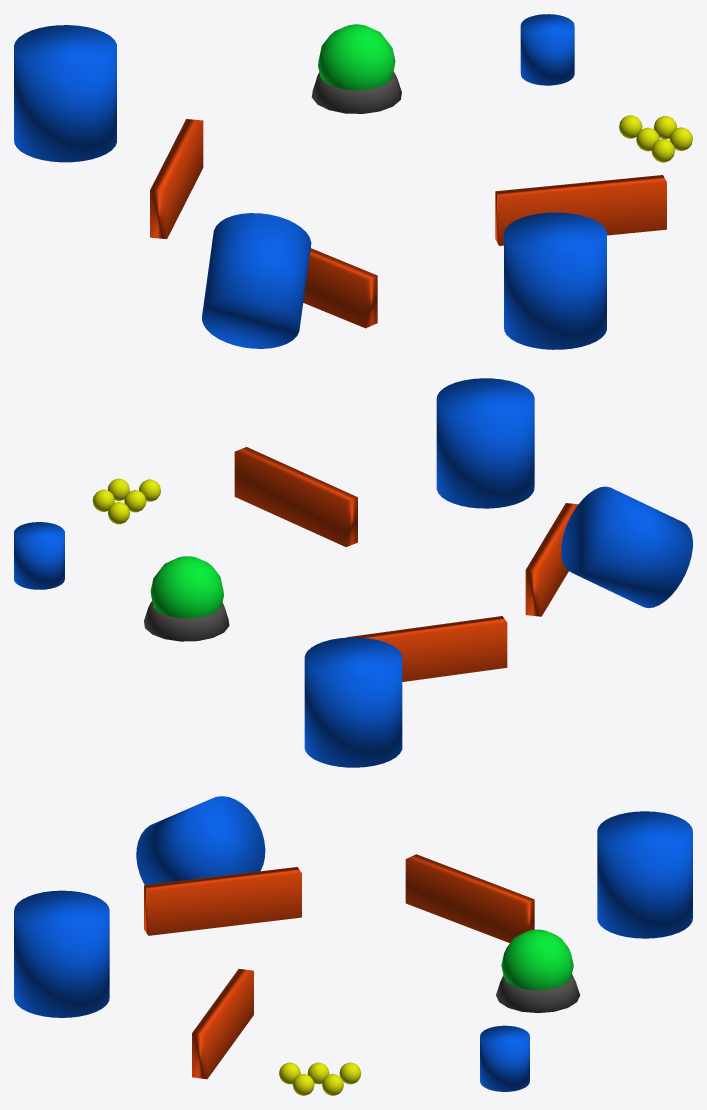
File: map.gltf
The picture shows the model from 3 angles, top to bottom: view 1: azimuth 30°, elevation 25°; view 2: azimuth 150°, elevation 25°; view 3: azimuth 270°, elevation 25°; orthographic projection. The views are drawn at different scales.
Visible parts, largest first — view 1: 円柱.004, 円柱.003, 円柱.001, 立方体, Gustank, 立方体.001, 立方体.002, 円柱, トーラス; view 2: 円柱.003, 円柱.004, 円柱.001, 立方体, 立方体.002, Gustank, 円柱, 立方体.001, トーラス; view 3: 円柱.003, 円柱.004, 円柱.001, 立方体.001, 立方体.002, 立方体, Gustank, 円柱, トーラス.
Boxes of the visible parts, x1,y1,x2,y2 form: 円柱.004: (504, 212, 606, 349); 円柱.003: (14, 25, 116, 162); 円柱.001: (202, 213, 311, 348); 立方体: (495, 175, 666, 245); Gustank: (318, 24, 395, 90); 立方体.001: (303, 248, 377, 328); 立方体.002: (150, 119, 203, 239); 円柱: (520, 14, 574, 85); トーラス: (311, 72, 401, 113); 円柱.003: (304, 637, 402, 767); 円柱.004: (436, 378, 534, 508); 円柱.001: (561, 486, 692, 608); 立方体: (234, 447, 357, 546); 立方体.002: (347, 616, 507, 681); Gustank: (150, 556, 223, 618); 円柱: (14, 522, 64, 589); 立方体.001: (525, 503, 577, 616); トーラス: (144, 601, 229, 641); 円柱.003: (597, 811, 692, 938); 円柱.004: (14, 890, 109, 1017); 円柱.001: (136, 796, 265, 884); 立方体.001: (144, 867, 301, 935); 立方体.002: (405, 854, 534, 942); 立方体: (192, 969, 253, 1079); Gustank: (501, 929, 573, 990); 円柱: (480, 1025, 529, 1091); トーラス: (496, 974, 580, 1012).
Bounding box in the file's own units: 73.08 × 15.77 × 84.44.
